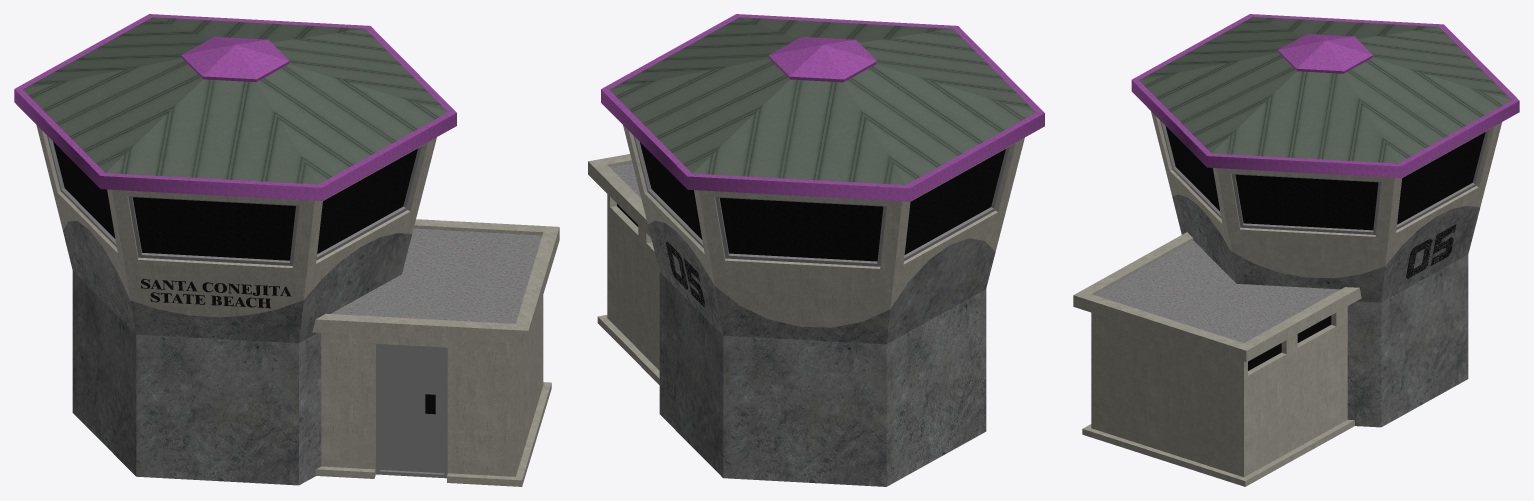
Rendered from Pier Tower.dae.
3 views of the same model, side by side, from view 1: azimuth 30°, elevation 25°; view 2: azimuth 150°, elevation 25°; view 3: azimuth 270°, elevation 25° (orthographic). The views are drawn at different scales.
Parts seen in each view (by area): view 1: SketchUp (×14); view 2: SketchUp (×15); view 3: SketchUp (×14).
Boxes of the visible parts, x1,y1,x2,y2 form: SketchUp (×14): [14, 14, 559, 486]; SketchUp (×15): [588, 14, 1044, 486]; SketchUp (×14): [1073, 14, 1519, 486].
Bounding box in the file's own units: 285 × 275 × 225.
